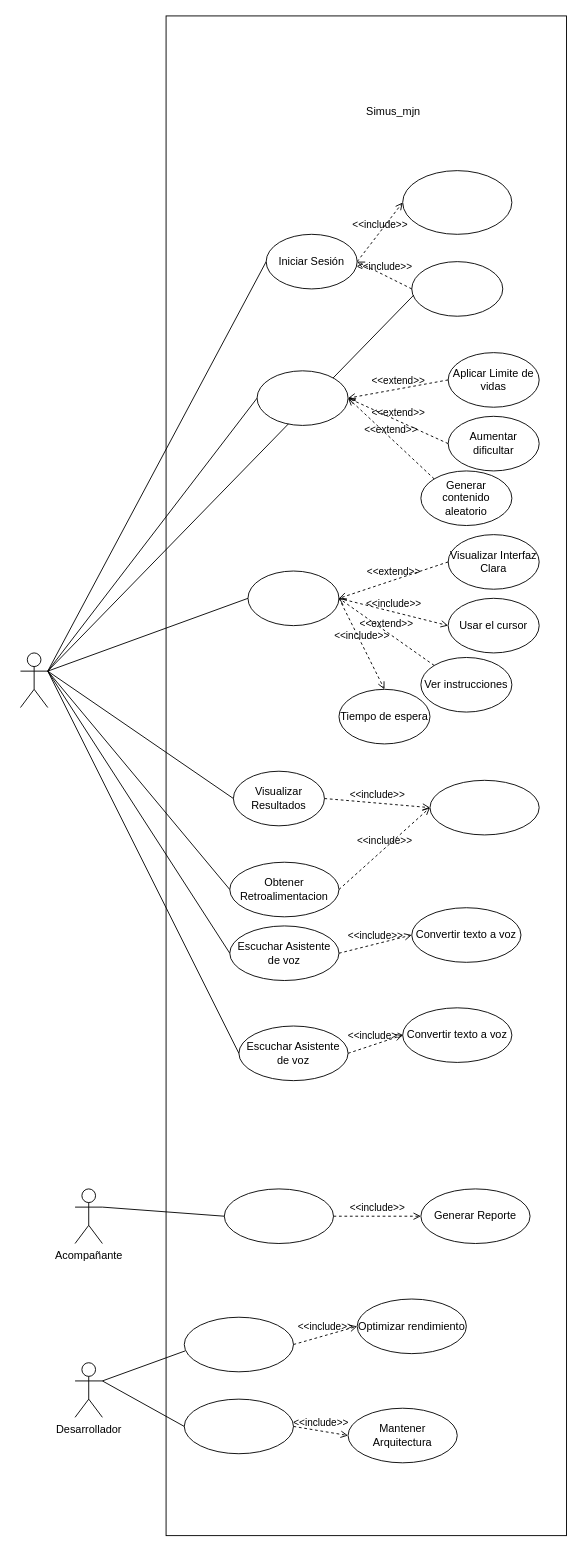
This 582x1552 diagram has some shape labels left out. Here are the shapes that lost their labels. From the top down, the centre of each, then its label:
[457,202]: Registrar fecha nacimiento y Nickname
[457,288]: Cerrar Sesión
[302,397]: Jugar
[293,598]: Navegar en la aplicacion
[34,680]: Usuario
[484,807]: Procesar Datos
[278,1216]: Descargar Reporte PDF
[238,1344]: Estabilidad del Software
[238,1426]: Organizar Código
